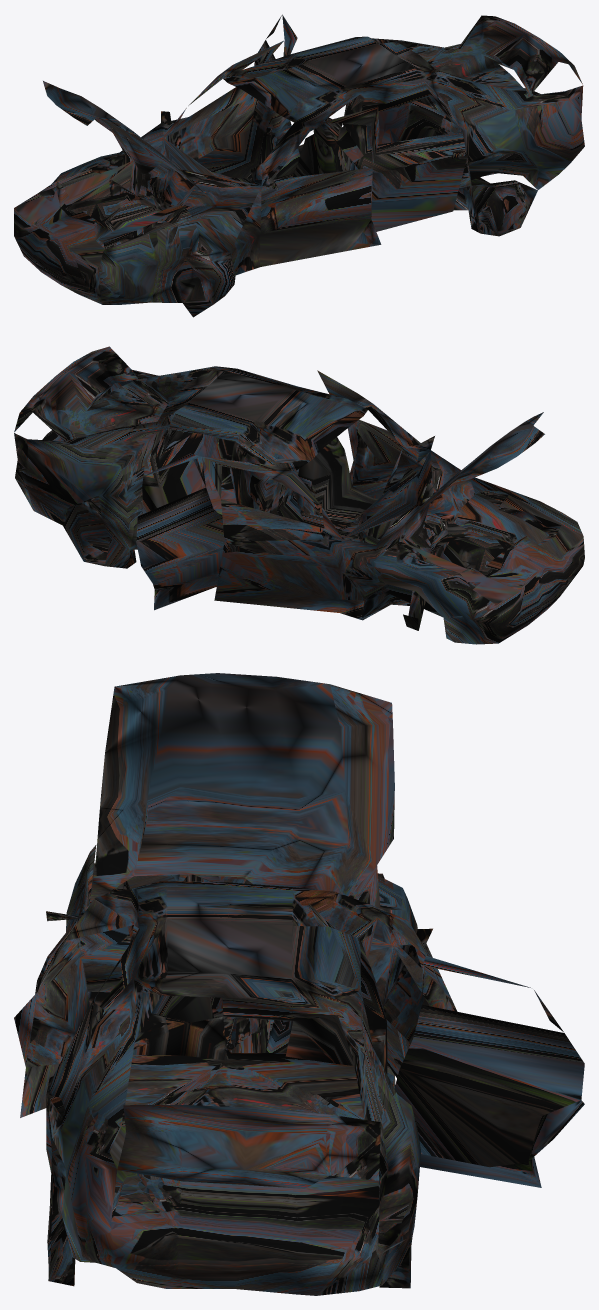
Rendered from abandoned_sedan_1.glb.
The picture shows the model from 3 angles, top to bottom: view 1: azimuth 30°, elevation 25°; view 2: azimuth 150°, elevation 25°; view 3: azimuth 270°, elevation 25°; orthographic projection. The views are drawn at different scales.
Visible parts, largest first — view 1: abandoned_sedan_1; view 2: abandoned_sedan_1; view 3: abandoned_sedan_1.
Part boxes in pixels (x1,y1,x2,y2): abandoned_sedan_1: (14, 14, 584, 317); abandoned_sedan_1: (14, 346, 584, 644); abandoned_sedan_1: (14, 673, 584, 1295).
Bounding box in the file's own units: 21.18 × 7.3 × 12.16.
Materials: 1 (1 with a texture image).
